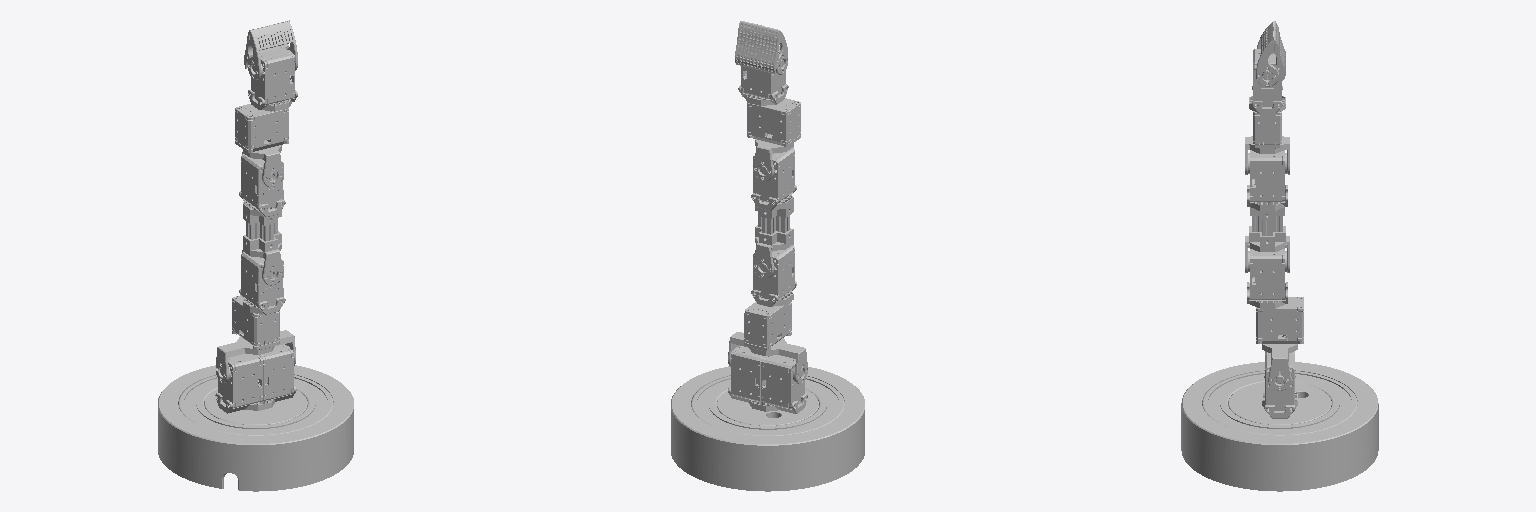
The robot description file, URDF, robot "clsrobo_90457":
<?xml version="1.0" ?>
<robot name="clsrobo_90457" xmlns:xacro="http://www.ros.org/wiki/xacro">

    <material name="silver">
        <color rgba="0.8 0.8 0.8 1.000"/>
    </material>

    <!-->Link Tags Go Here<-->
    
<link name="0_link">
        <inertial>
            <origin rpy="0 0 0" xyz="0.00003821186809 -0.00030983086283 0.01875604321375"/>
            <mass value="2.07110000000000"/>
            <inertia ixx="3.64188928305714" ixy="0.00000514769757" ixz="0.00000085409818" iyy="3.64187376134656" iyz="0.00000286492593" izz="0.01059796903767"/>
        </inertial>
        <visual>
            <origin rpy="0 0 0" xyz="0 0 0"/>
            <geometry>
                <mesh filename="package://clsrobo_90457_description/meshes/0_link.stl" scale="0.001 0.001 0.001"/>
            </geometry>
            <material name="silver"/>
        </visual>
        <collision>
            <origin rpy="0 0 0" xyz="0 0 0"/>
            <geometry>
                <mesh filename="package://clsrobo_90457_description/meshes/0_link.stl" scale="0.001 0.001 0.001"/>
            </geometry>
        </collision>
    </link>

<link name="1_link">
        <inertial>
            <origin rpy="0 0 0" xyz="0.00012843477802 -0.00014275664176 0.02077775078681"/>
            <mass value="0.22750000000000"/>
            <inertia ixx="0.00019717203900" ixy="-0.00000059205455" ixz="0.00000047245861" iyy="0.00024035701003" iyz="-0.00000052463206" izz="0.00022140776924"/>
        </inertial>
        <visual>
            <origin rpy="0 0 0" xyz="0 0 0"/>
            <geometry>
                <mesh filename="package://clsrobo_90457_description/meshes/1_link.stl" scale="0.001 0.001 0.001"/>
            </geometry>
            <material name="silver"/>
        </visual>
        <collision>
            <origin rpy="0 0 0" xyz="0 0 0"/>
            <geometry>
                <mesh filename="package://clsrobo_90457_description/meshes/1_link.stl" scale="0.001 0.001 0.001"/>
            </geometry>
        </collision>
    </link>

<link name="2_link">
        <inertial>
            <origin rpy="0 0 0" xyz="0.00000000000000 0.00000000000000 0.04327280106237"/>
            <mass value="0.07003200000000"/>
            <inertia ixx="0.00001922677189" ixy="0.00000000789700" ixz="0.00000033247000" iyy="0.00003200377189" iyz="0.00000000906400" izz="0.00002148900000"/>
        </inertial>
        <visual>
            <origin rpy="0 0 0" xyz="0 0 0"/>
            <geometry>
                <mesh filename="package://clsrobo_90457_description/meshes/2_link.stl" scale="0.001 0.001 0.001"/>
            </geometry>
            <material name="silver"/>
        </visual>
        <collision>
            <origin rpy="0 0 0" xyz="0 0 0"/>
            <geometry>
                <mesh filename="package://clsrobo_90457_description/meshes/2_link.stl" scale="0.001 0.001 0.001"/>
            </geometry>
        </collision>
    </link>

<link name="3_link">
        <inertial>
            <origin rpy="0 0 0" xyz="0.00000000000000 0.00000000000000 0.02842285202155"/>
            <mass value="0.06198200000000"/>
            <inertia ixx="0.00001781079875" ixy="0.00000000881800" ixz="-0.00000006923300" iyy="0.00002019079875" iyz="-0.00000000773100" izz="0.00001068200000"/>
        </inertial>
        <visual>
            <origin rpy="0 0 0" xyz="0 0 0"/>
            <geometry>
                <mesh filename="package://clsrobo_90457_description/meshes/3_link.stl" scale="0.001 0.001 0.001"/>
            </geometry>
            <material name="silver"/>
        </visual>
        <collision>
            <origin rpy="0 0 0" xyz="0 0 0"/>
            <geometry>
                <mesh filename="package://clsrobo_90457_description/meshes/3_link.stl" scale="0.001 0.001 0.001"/>
            </geometry>
        </collision>
    </link>

<link name="4_link">
        <inertial>
            <origin rpy="0 0 0" xyz="0.00000000000000 0.00000000000000 0.07204928207526"/>
            <mass value="0.09625800000000"/>
            <inertia ixx="0.00009398436500" ixy="0.00000000881800" ixz="-0.00000006923300" iyy="0.00009756736500" iyz="-0.00000000773100" izz="0.00001666400000"/>
        </inertial>
        <visual>
            <origin rpy="0 0 0" xyz="0 0 0"/>
            <geometry>
                <mesh filename="package://clsrobo_90457_description/meshes/4_link.stl" scale="0.001 0.001 0.001"/>
            </geometry>
            <material name="silver"/>
        </visual>
        <collision>
            <origin rpy="0 0 0" xyz="0 0 0"/>
            <geometry>
                <mesh filename="package://clsrobo_90457_description/meshes/4_link.stl" scale="0.001 0.001 0.001"/>
            </geometry>
        </collision>
    </link>

<link name="5_link">
        <inertial>
            <origin rpy="0 0 0" xyz="0.00000000000000 0.00000000000000 0.04389676587057"/>
            <mass value="0.06808200000000"/>
            <inertia ixx="0.00001823124550" ixy="0.00000000789700" ixz="0.00000033247000" iyy="0.00002650824550" iyz="0.00000000906400" izz="0.00001691500000"/>
        </inertial>
        <visual>
            <origin rpy="0 0 0" xyz="0 0 0"/>
            <geometry>
                <mesh filename="package://clsrobo_90457_description/meshes/5_link.stl" scale="0.001 0.001 0.001"/>
            </geometry>
            <material name="silver"/>
        </visual>
        <collision>
            <origin rpy="0 0 0" xyz="0 0 0"/>
            <geometry>
                <mesh filename="package://clsrobo_90457_description/meshes/5_link.stl" scale="0.001 0.001 0.001"/>
            </geometry>
        </collision>
    </link>

<link name="6_link">
        <inertial>
            <origin rpy="0 0 0" xyz="0.00000000000000 0.00000000000000 0.02858005449096"/>
            <mass value="0.06705700000000"/>
            <inertia ixx="0.00001783103790" ixy="0.00000000881800" ixz="-0.00000006923300" iyy="0.00002021103790" iyz="-0.00000000773100" izz="0.00001068200000"/>
        </inertial>
        <visual>
            <origin rpy="0 0 0" xyz="0 0 0"/>
            <geometry>
                <mesh filename="package://clsrobo_90457_description/meshes/6_link.stl" scale="0.001 0.001 0.001"/>
            </geometry>
            <material name="silver"/>
        </visual>
        <collision>
            <origin rpy="0 0 0" xyz="0 0 0"/>
            <geometry>
                <mesh filename="package://clsrobo_90457_description/meshes/6_link.stl" scale="0.001 0.001 0.001"/>
            </geometry>
        </collision>
    </link>

<link name="7_link">
        <inertial>
            <origin rpy="0 0 0" xyz="0.00000000000000 0.00000000000000 0.01800000000000"/>
            <mass value="0.00716000000000"/>
            <inertia ixx="0.00000123800000" ixy="-0.00000000020200" ixz="-0.00000000016500" iyy="0.00000283900000" iyz="0.00000012121400" izz="0.00000187100000"/>
        </inertial>
        <visual>
            <origin rpy="0 0 0" xyz="0 0 0"/>
            <geometry>
                <mesh filename="package://clsrobo_90457_description/meshes/7_link.stl" scale="0.001 0.001 0.001"/>
            </geometry>
            <material name="silver"/>
        </visual>
        <collision>
            <origin rpy="0 0 0" xyz="0 0 0"/>
            <geometry>
                <mesh filename="package://clsrobo_90457_description/meshes/7_link.stl" scale="0.001 0.001 0.001"/>
            </geometry>
        </collision>
    </link>


    <!-->Joint Tags Go Here<-->
    
<joint name="joint_0" type="revolute">
        <origin rpy="0 0 0" xyz="0.00000000000000 0.00000000000000 0.04100000000000"/>
        <limit effort="1000.0" lower="-3.14" upper="3.14" velocity="1.0"/>
        <parent link="0_link"/>
        <child link="1_link"/>
        <axis xyz="0.00000000000000 0.00000000000000 1.00000000000000"/>
</joint>


<joint name="joint_1" type="revolute">
        <origin rpy="0 0 0" xyz="0.00000000000000 0.00000000000000 0.05098200000000"/>
        <limit effort="1000.0" lower="-1.57" upper="1.57" velocity="1.0"/>
        <parent link="1_link"/>
        <child link="2_link"/>
        <axis xyz="1.00000000000000 0.00000000000000 0.00000000000000"/>
</joint>


<joint name="joint_2" type="revolute">
        <origin rpy="0 0 0" xyz="-0.00000000000000 -0.01200000000000 0.06650000000000"/>
        <limit effort="1000.0" lower="-3.14" upper="3.14" velocity="1.0"/>
        <parent link="2_link"/>
        <child link="3_link"/>
        <axis xyz="0.00000000000000 0.00000000000000 1.00000000000000"/>
</joint>


<joint name="joint_3" type="revolute">
        <origin rpy="0 0 0" xyz="0.00000000000000 0.00000000000000 0.04175000000000"/>
        <limit effort="1000.0" lower="-1.57" upper="1.57" velocity="1.0"/>
        <parent link="3_link"/>
        <child link="4_link"/>
        <axis xyz="0.00000000000000 1.00000000000000 0.00000000000000"/>
</joint>


<joint name="joint_4" type="revolute">
        <origin rpy="0 0 0" xyz="0.00000000000000 0.00000000000000 0.10475000000000"/>
        <limit effort="1000.0" lower="-1.57" upper="1.57" velocity="1.0"/>
        <parent link="4_link"/>
        <child link="5_link"/>
        <axis xyz="0.00000000000000 1.00000000000000 0.00000000000000"/>
</joint>


<joint name="joint_5" type="revolute">
        <origin rpy="0 0 0" xyz="0.01200000000000 -0.00000000000000 0.06650000000000"/>
        <limit effort="1000.0" lower="-3.14" upper="3.14" velocity="1.0"/>
        <parent link="5_link"/>
        <child link="6_link"/>
        <axis xyz="0.00000000000000 0.00000000000000 1.00000000000000"/>
</joint>


<joint name="joint_6" type="revolute">
        <origin rpy="0 0 0" xyz="-0.00000000000000 0.00000000000000 0.04175000000000"/>
        <limit effort="1000.0" lower="-1.57" upper="0" velocity="1.0"/>
        <parent link="6_link"/>
        <child link="7_link"/>
        <axis xyz="-1.00000000000000 0.00000000000000 0.00000000000000"/>
</joint>



    <!--Transmissions go here -->
    
<transmission name="joint_0_tran">
  <type>transmission_interface/SimpleTransmission</type>
  <joint name="joint_0">
    <hardwareInterface>hardware_interface/EffortJointInterface</hardwareInterface>
  </joint>
  <actuator name="joint_0_actr">
    <hardwareInterface>hardware_interface/EffortJointInterface</hardwareInterface>
    <mechanicalReduction>1</mechanicalReduction>
  </actuator>
</transmission>


<transmission name="joint_1_tran">
  <type>transmission_interface/SimpleTransmission</type>
  <joint name="joint_1">
    <hardwareInterface>hardware_interface/EffortJointInterface</hardwareInterface>
  </joint>
  <actuator name="joint_1_actr">
    <hardwareInterface>hardware_interface/EffortJointInterface</hardwareInterface>
    <mechanicalReduction>1</mechanicalReduction>
  </actuator>
</transmission>


<transmission name="joint_2_tran">
  <type>transmission_interface/SimpleTransmission</type>
  <joint name="joint_2">
    <hardwareInterface>hardware_interface/EffortJointInterface</hardwareInterface>
  </joint>
  <actuator name="joint_2_actr">
    <hardwareInterface>hardware_interface/EffortJointInterface</hardwareInterface>
    <mechanicalReduction>1</mechanicalReduction>
  </actuator>
</transmission>


<transmission name="joint_3_tran">
  <type>transmission_interface/SimpleTransmission</type>
  <joint name="joint_3">
    <hardwareInterface>hardware_interface/EffortJointInterface</hardwareInterface>
  </joint>
  <actuator name="joint_3_actr">
    <hardwareInterface>hardware_interface/EffortJointInterface</hardwareInterface>
    <mechanicalReduction>1</mechanicalReduction>
  </actuator>
</transmission>


<transmission name="joint_4_tran">
  <type>transmission_interface/SimpleTransmission</type>
  <joint name="joint_4">
    <hardwareInterface>hardware_interface/EffortJointInterface</hardwareInterface>
  </joint>
  <actuator name="joint_4_actr">
    <hardwareInterface>hardware_interface/EffortJointInterface</hardwareInterface>
    <mechanicalReduction>1</mechanicalReduction>
  </actuator>
</transmission>


<transmission name="joint_5_tran">
  <type>transmission_interface/SimpleTransmission</type>
  <joint name="joint_5">
    <hardwareInterface>hardware_interface/EffortJointInterface</hardwareInterface>
  </joint>
  <actuator name="joint_5_actr">
    <hardwareInterface>hardware_interface/EffortJointInterface</hardwareInterface>
    <mechanicalReduction>1</mechanicalReduction>
  </actuator>
</transmission>


<transmission name="joint_6_tran">
  <type>transmission_interface/SimpleTransmission</type>
  <joint name="joint_6">
    <hardwareInterface>hardware_interface/EffortJointInterface</hardwareInterface>
  </joint>
  <actuator name="joint_6_actr">
    <hardwareInterface>hardware_interface/EffortJointInterface</hardwareInterface>
    <mechanicalReduction>1</mechanicalReduction>
  </actuator>
</transmission>




<gazebo>
    <plugin filename="libgazebo_ros_control.so" name="control"/>
</gazebo>

<gazebo reference="0_link">
    <material>Gazebo/Silver</material>
    <mu1>0.2</mu1>
    <mu2>0.2</mu2>
    <selfCollide>true</selfCollide>
    <gravity>true</gravity>
</gazebo>

    
<gazebo reference="1_link">
        <material>Gazebo/Green</material>
        <mu1>0.2</mu1>
        <mu2>0.2</mu2>
        <selfCollide>true</selfCollide>
</gazebo>


<gazebo reference="2_link">
        <material>Gazebo/Green</material>
        <mu1>0.2</mu1>
        <mu2>0.2</mu2>
        <selfCollide>true</selfCollide>
</gazebo>


<gazebo reference="3_link">
        <material>Gazebo/Green</material>
        <mu1>0.2</mu1>
        <mu2>0.2</mu2>
        <selfCollide>true</selfCollide>
</gazebo>


<gazebo reference="4_link">
        <material>Gazebo/Green</material>
        <mu1>0.2</mu1>
        <mu2>0.2</mu2>
        <selfCollide>true</selfCollide>
</gazebo>


<gazebo reference="5_link">
        <material>Gazebo/Green</material>
        <mu1>0.2</mu1>
        <mu2>0.2</mu2>
        <selfCollide>true</selfCollide>
</gazebo>


<gazebo reference="6_link">
        <material>Gazebo/Green</material>
        <mu1>0.2</mu1>
        <mu2>0.2</mu2>
        <selfCollide>true</selfCollide>
</gazebo>


<gazebo reference="7_link">
        <material>Gazebo/Green</material>
        <mu1>0.2</mu1>
        <mu2>0.2</mu2>
        <selfCollide>true</selfCollide>
</gazebo>



</robot>

--- Facts derived from the render (not from the file) ---
The picture shows the robot from 3 angles, left to right: view 1: azimuth 30°, elevation 25°; view 2: azimuth 150°, elevation 25°; view 3: azimuth 270°, elevation 25°; orthographic projection.
Model clsrobo_90457 with 8 links and 7 joints (7 revolute), rooted at 0_link, posed all joints at 0.
Links seen in each view (by area): view 1: 0_link, 1_link, 4_link, 5_link, 2_link, 6_link, 3_link, 7_link; view 2: 0_link, 1_link, 4_link, 6_link, 2_link, 5_link, 3_link; view 3: 0_link, 4_link, 1_link, 2_link, 3_link, 6_link, 5_link, 7_link.
Link boxes in pixels (x1,y1,x2,y2): 0_link: [158, 365, 353, 491]; 1_link: [204, 344, 307, 424]; 4_link: [239, 154, 285, 285]; 5_link: [235, 104, 288, 186]; 2_link: [216, 295, 295, 382]; 6_link: [244, 20, 297, 111]; 3_link: [239, 252, 285, 314]; 7_link: [248, 21, 297, 79]; 0_link: [671, 366, 864, 491]; 1_link: [717, 346, 818, 425]; 4_link: [751, 148, 796, 277]; 6_link: [735, 21, 788, 105]; 2_link: [728, 301, 807, 383]; 5_link: [747, 98, 800, 180]; 3_link: [751, 245, 796, 306]; 0_link: [1181, 362, 1378, 491]; 4_link: [1245, 150, 1289, 272]; 1_link: [1228, 351, 1331, 424]; 2_link: [1256, 297, 1303, 390]; 3_link: [1247, 249, 1287, 308]; 6_link: [1249, 21, 1285, 113]; 5_link: [1245, 111, 1289, 174]; 7_link: [1256, 21, 1278, 86].
Size in the robot's own frame: 0.19 by 0.19 by 0.4521 metres.
Meshes: 8 distinct files referenced, 8 mesh visuals loaded (8 binary STL).
